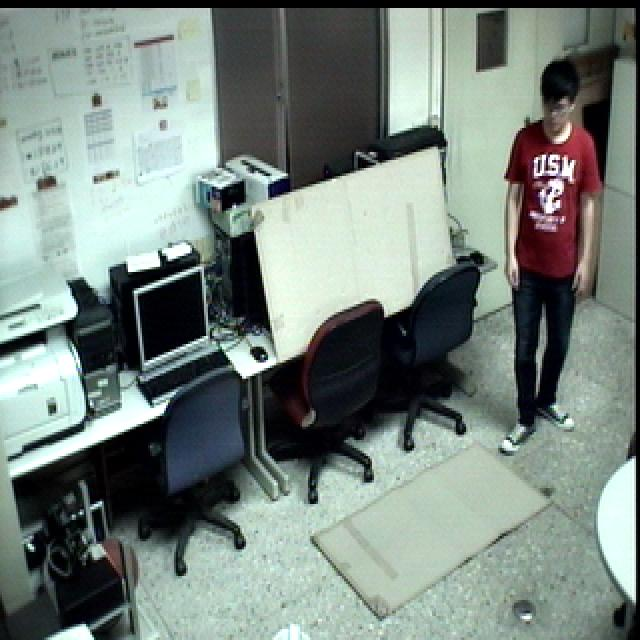stand: (498, 48, 604, 456)
